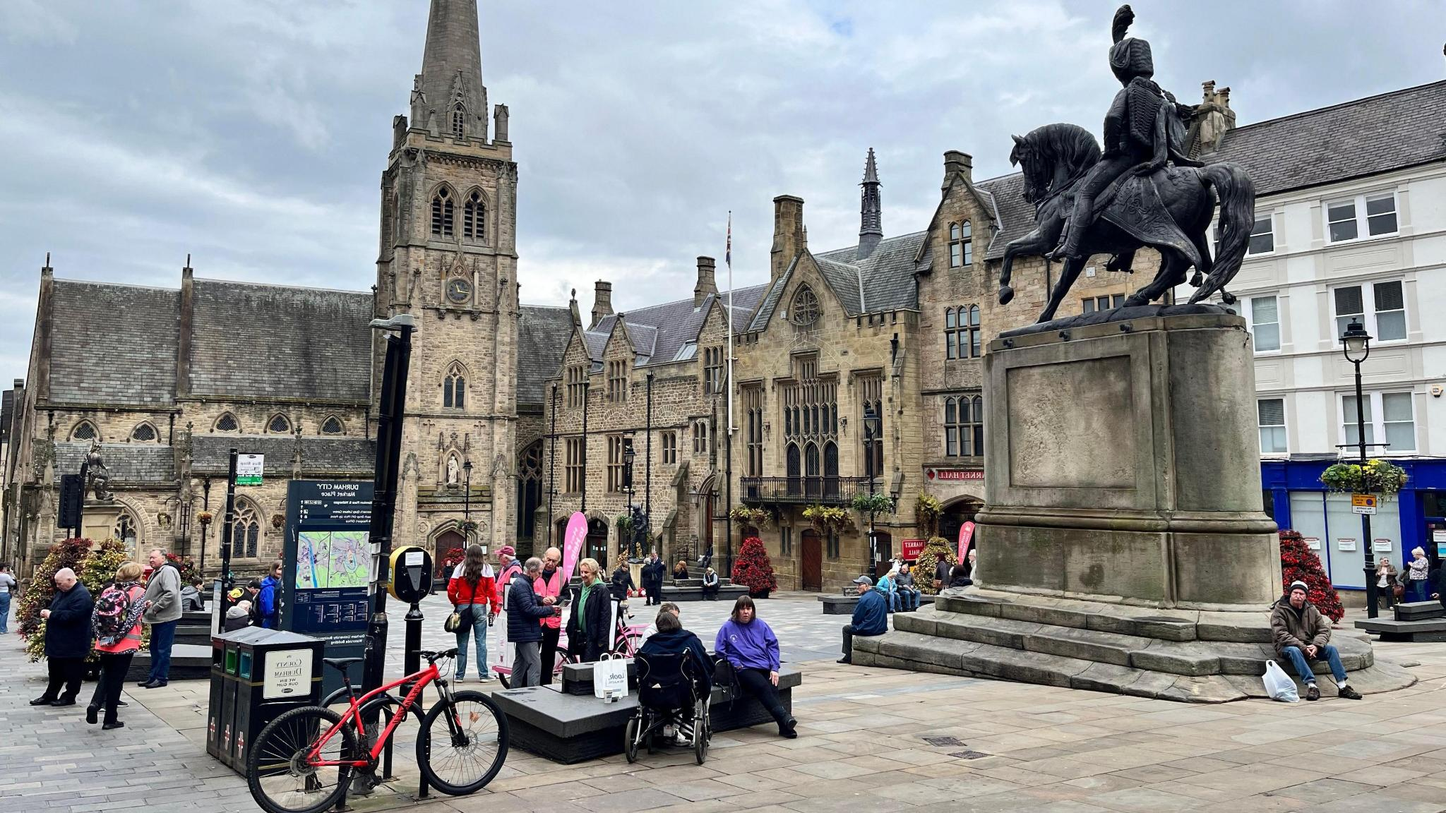Shorts: (225, 583, 253, 611)
coat: (44, 581, 94, 656), (1268, 594, 1332, 649), (507, 572, 555, 642), (140, 562, 184, 624), (257, 576, 278, 628), (224, 605, 250, 633), (611, 567, 637, 593), (180, 586, 204, 612), (894, 571, 916, 590), (876, 575, 898, 593)
jacket: (566, 585, 612, 648), (849, 593, 890, 635), (1374, 563, 1399, 586), (934, 560, 951, 587)
long sleeve shirt: (1408, 556, 1429, 580)
sweater: (713, 617, 783, 672), (577, 577, 607, 635), (0, 573, 15, 594)
trousers: (1277, 638, 1350, 688), (732, 670, 789, 729), (91, 647, 134, 720), (454, 603, 489, 679), (43, 644, 88, 702), (147, 617, 177, 678), (509, 639, 542, 691), (0, 592, 11, 633), (900, 589, 922, 609), (1415, 576, 1428, 602), (888, 591, 902, 611), (644, 586, 656, 604), (653, 579, 662, 602), (704, 584, 718, 596)
vest: (1376, 584, 1393, 608)
